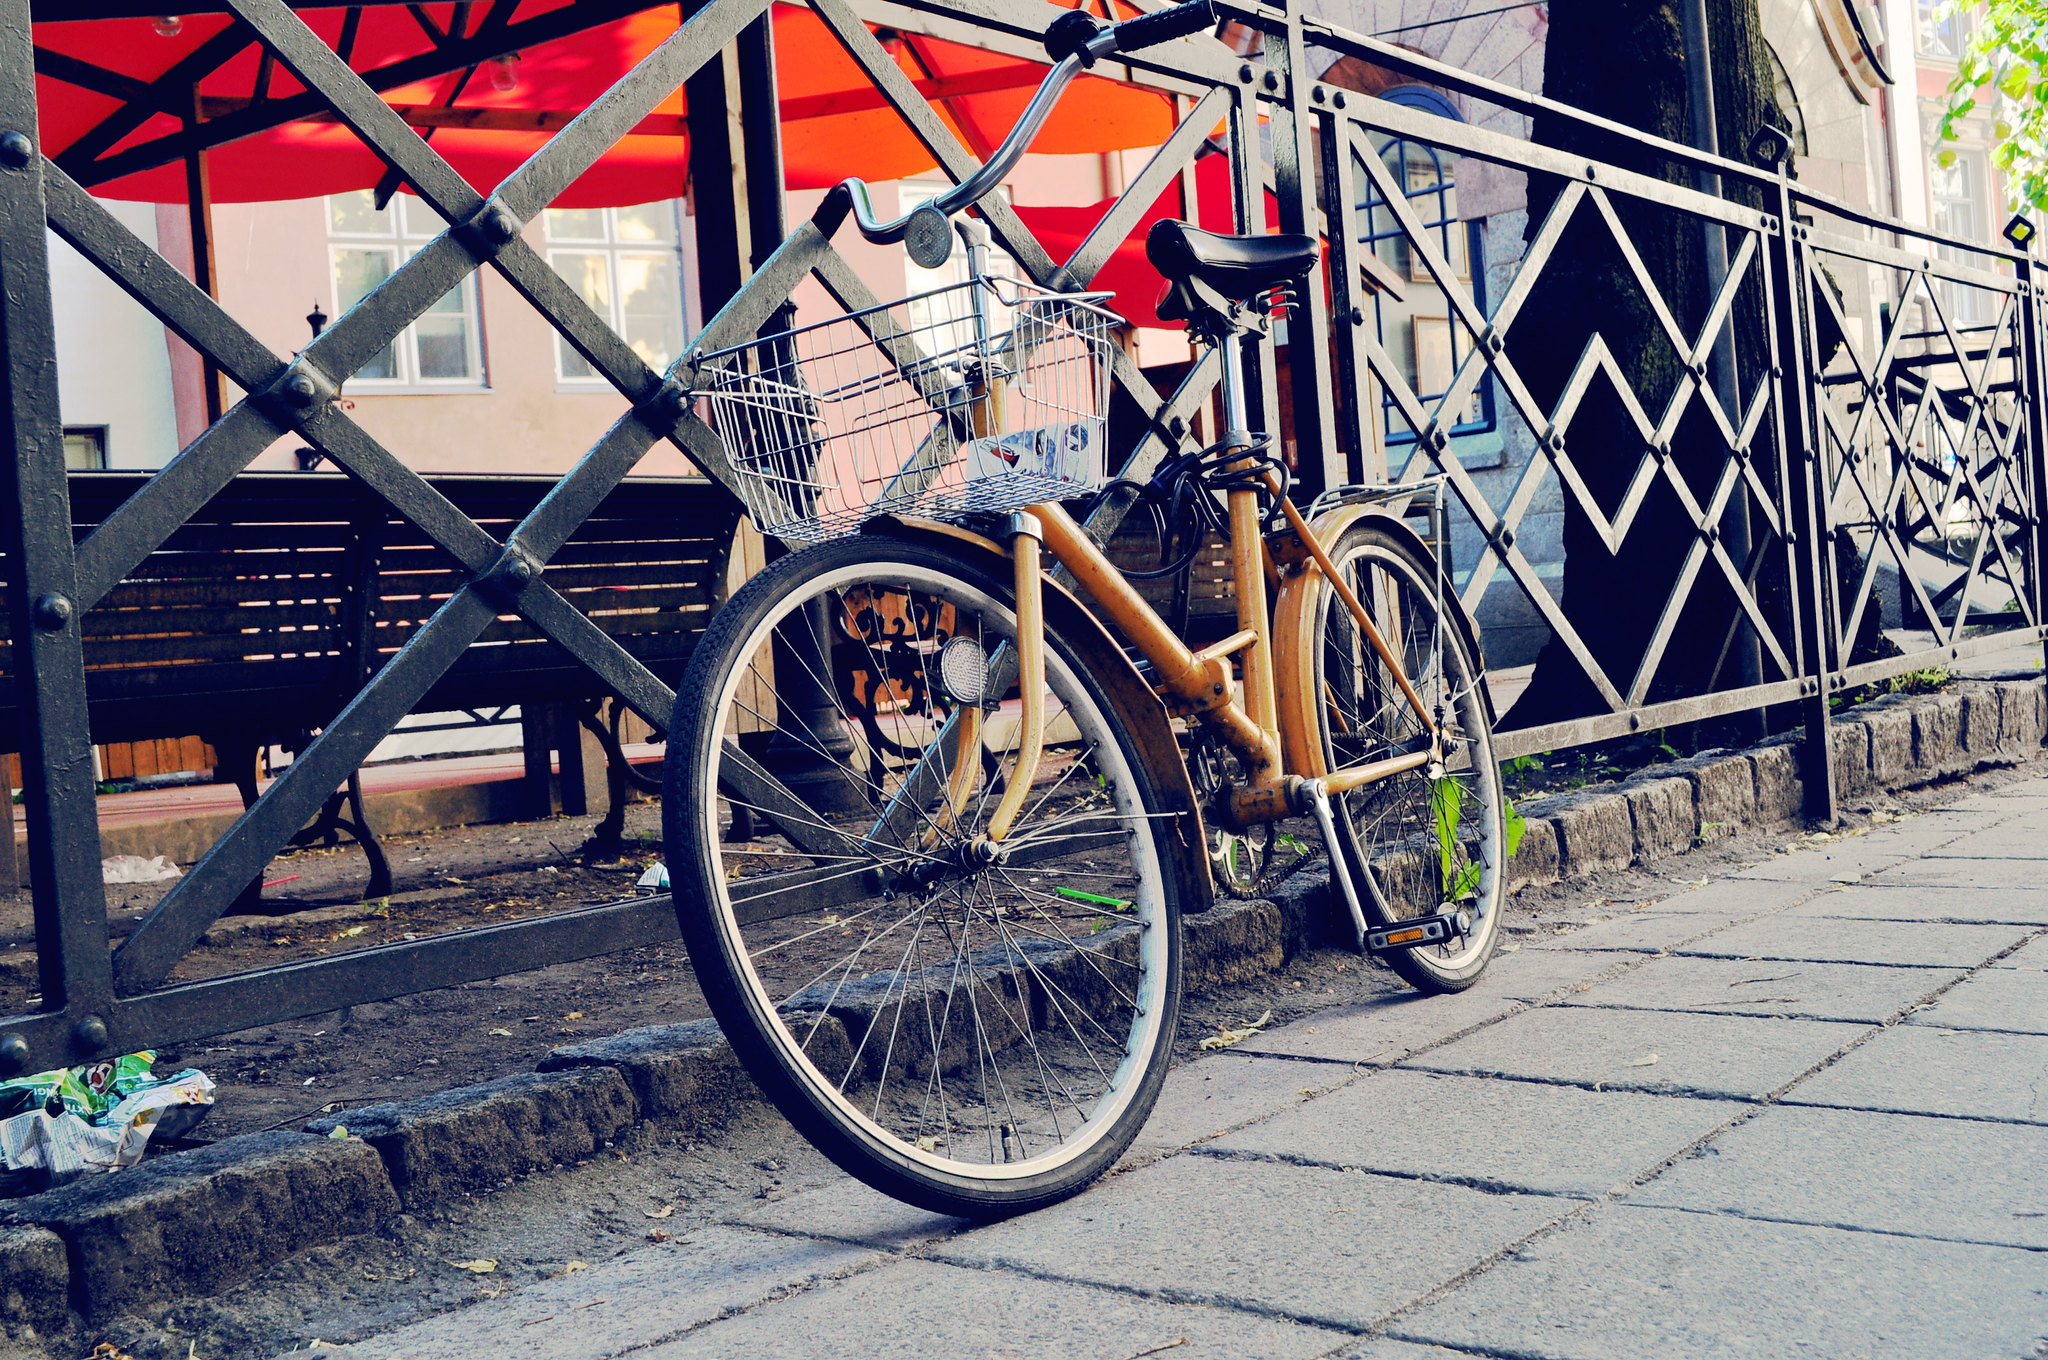bicycle: (660, 17, 1575, 1207)
